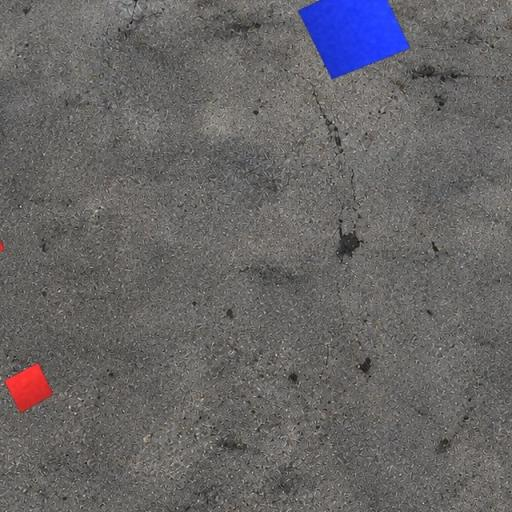BLUE_SQUARE: (297, 0, 411, 80)
RED_SQUARE: (4, 362, 54, 414)
